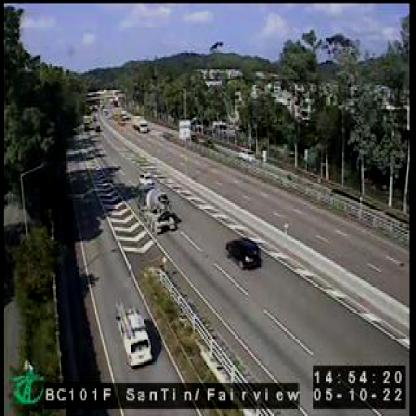Car: (114, 303, 152, 364), (225, 238, 261, 265), (139, 174, 155, 186)
Truck: (138, 187, 175, 229)
